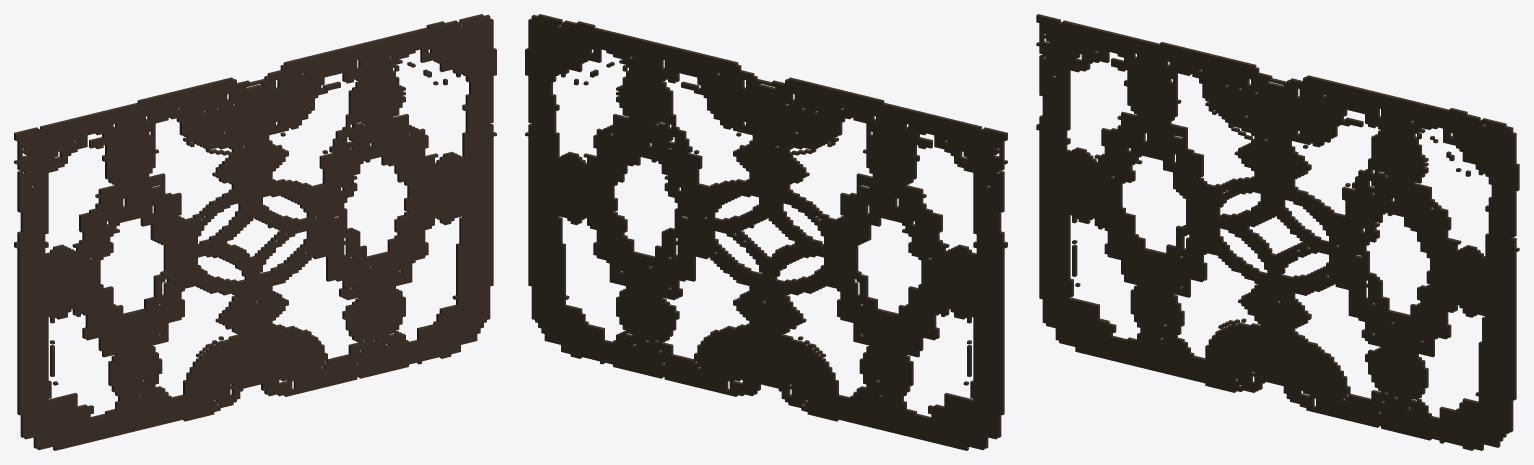
The model's file is lattice_window.glb.
The picture shows the model from 3 angles, left to right: view 1: azimuth 30°, elevation 25°; view 2: azimuth 150°, elevation 25°; view 3: azimuth 330°, elevation 25°; orthographic projection.
Parts seen in each view (by area): view 1: Lattice_Silhouette; view 2: Lattice_Silhouette; view 3: Lattice_Silhouette.
Part boxes in pixels (x1=…): Lattice_Silhouette: x1=14, y1=14, x2=496, y2=450; Lattice_Silhouette: x1=525, y1=14, x2=1007, y2=450; Lattice_Silhouette: x1=1036, y1=14, x2=1519, y2=450.
Size of the model in its own units: 1.5 by 1 by 0.0104.
